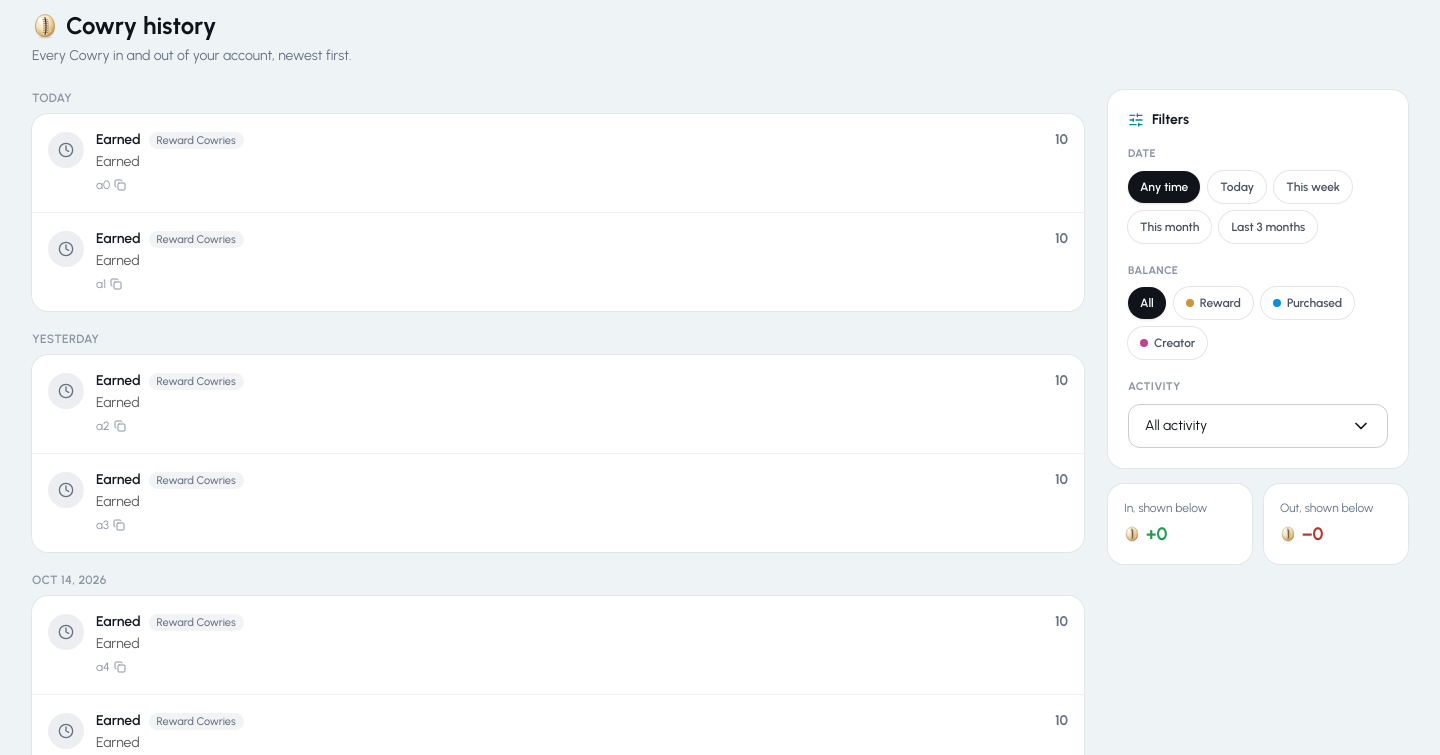
Cowry history — date filter › keeps only rows inside the period, and stops reading once past it
Click the button "This month".
click(1170, 226)  # box [1128,210,1211,242]
(page scrolled)
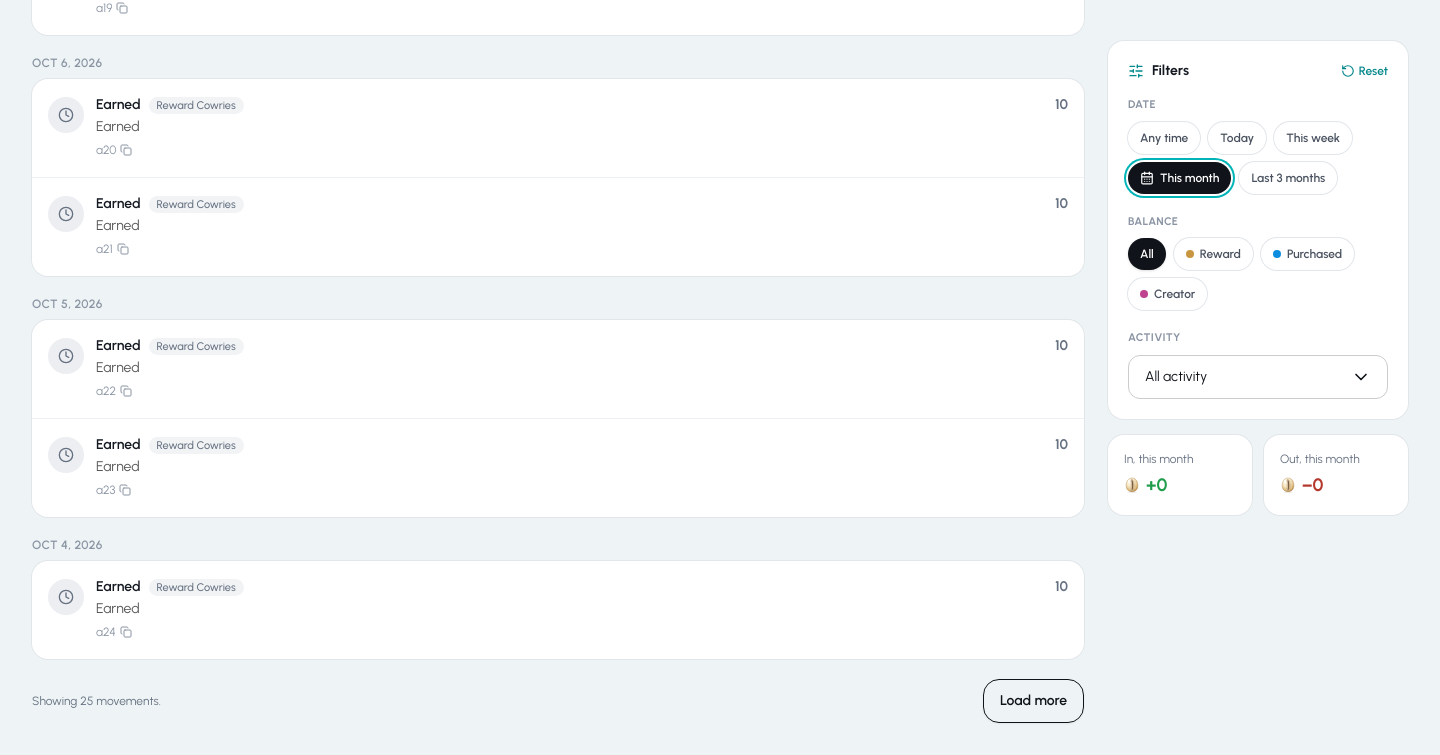
Expected: the text "Showing 25 movements." is shown, [32,693,161,709]
Now the text "In, this month" is shown, box [1124,452,1193,466]
The next page reaches back into September: two October rows, then it is done.
Click the button "Load more".
click(1034, 701)  # box [983,679,1084,723]
(page scrolled)
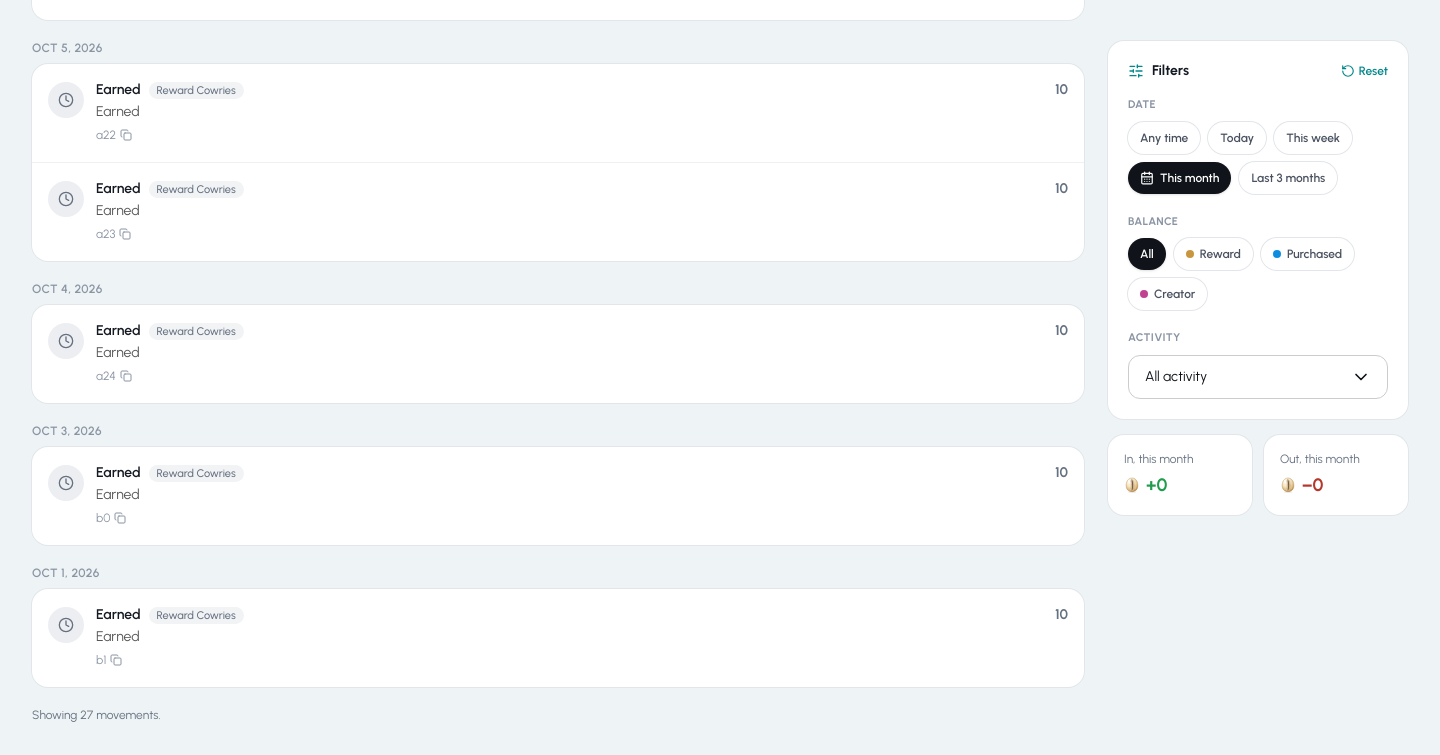
Now the text "Showing 27 movements." is shown, box [32,707,161,723]
Now the button "Load more" is gone
